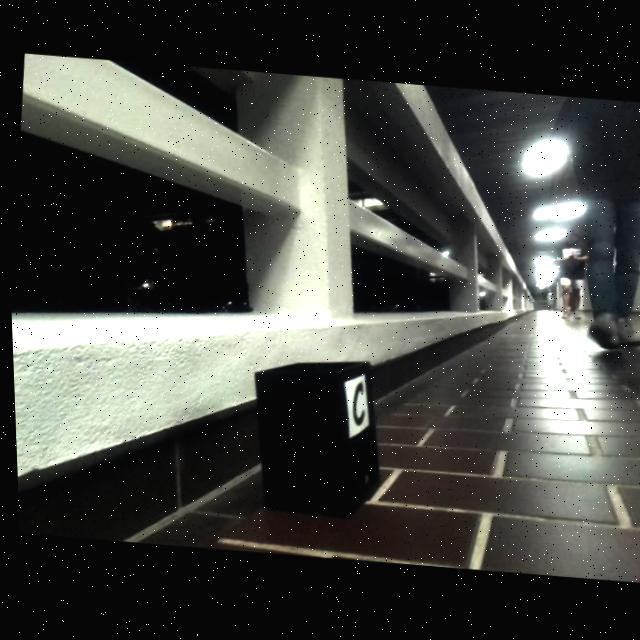C: (348, 382, 362, 426)
